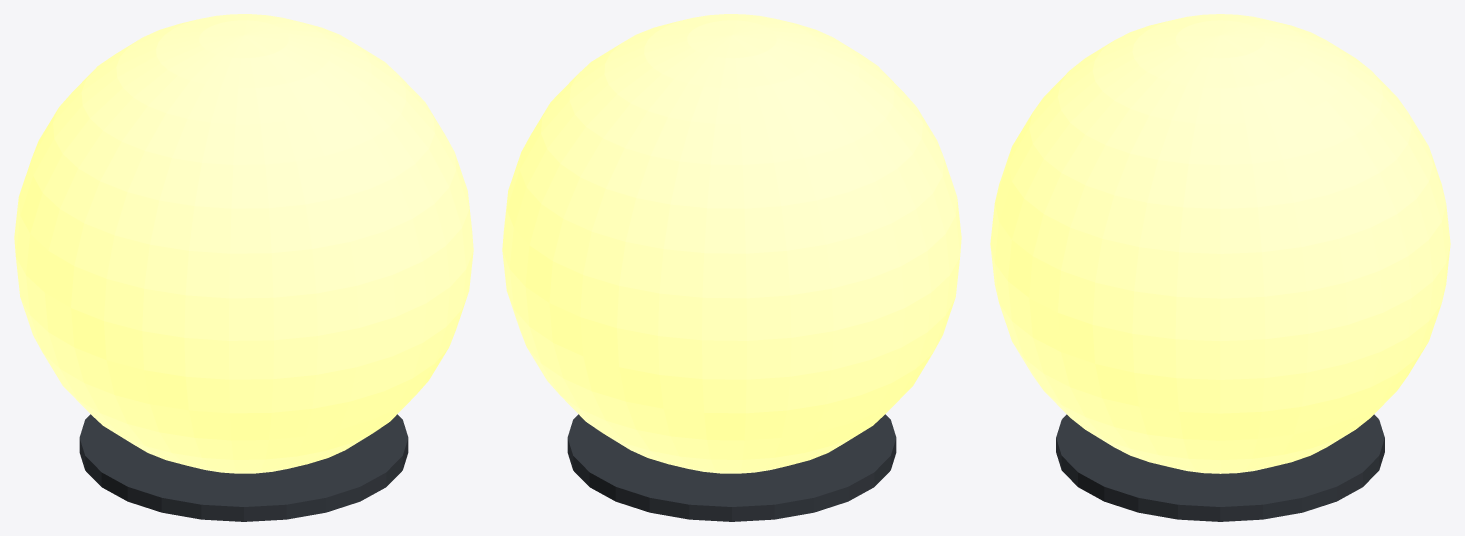
File: esfera.glb
3 renders of one model, left to right at view 1: azimuth 30°, elevation 25°; view 2: azimuth 150°, elevation 25°; view 3: azimuth 270°, elevation 25°, orthographic.
Visible parts, largest first — view 1: esfera; view 2: esfera; view 3: esfera.
Boxes of the visible parts, x1,y1,x2,y2 form: esfera: (14,14,473,521); esfera: (502,14,961,521); esfera: (990,14,1450,521).
Bounding box in the file's own units: 112 × 112 × 112.
